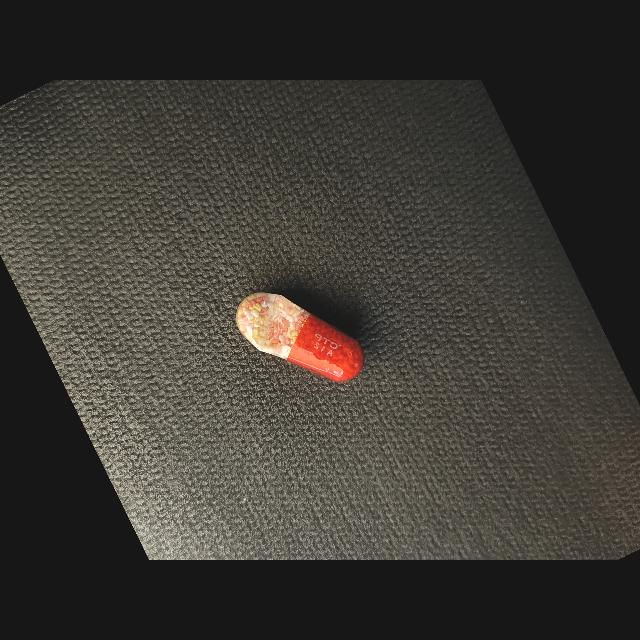Defective Capsule: (236, 292, 364, 382)
